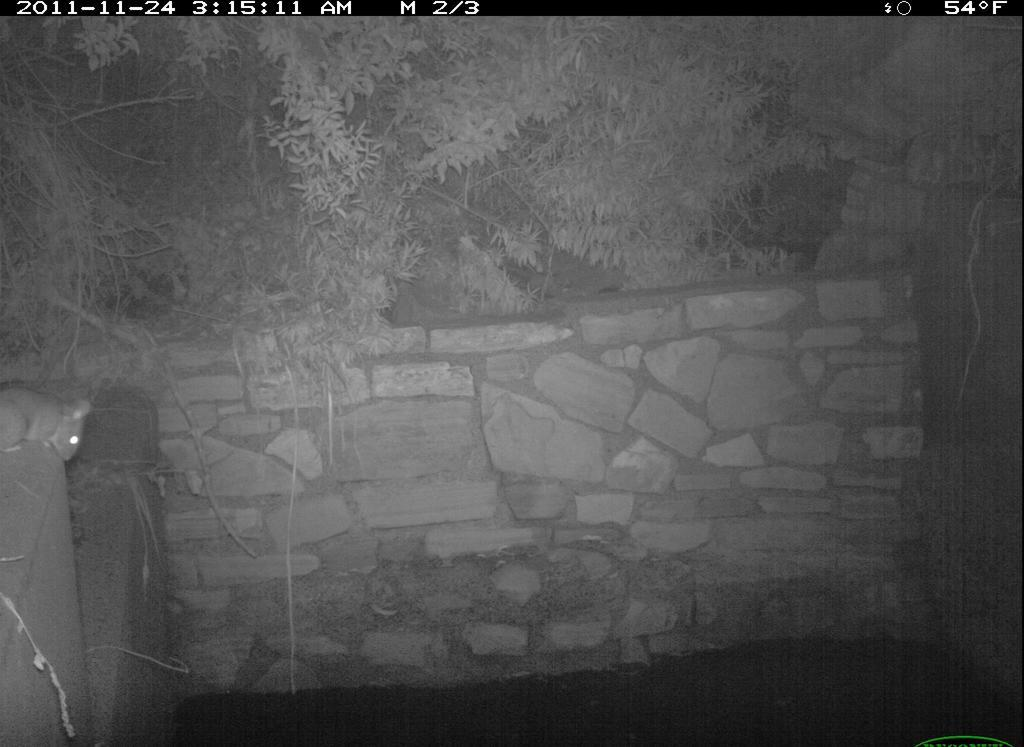rodent: (4, 368, 99, 479)
